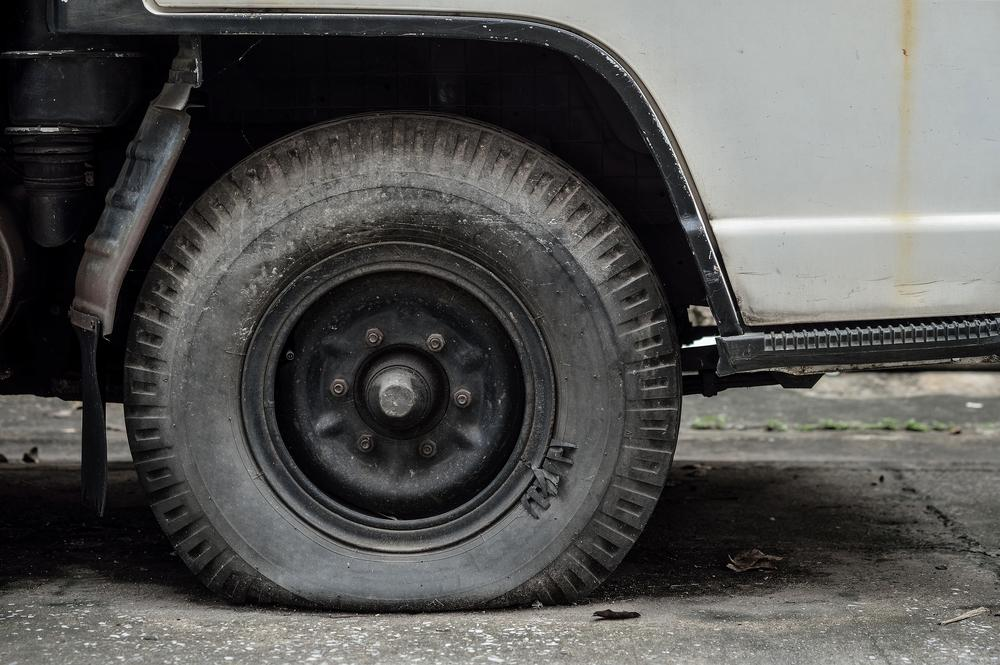tire flat: (123, 105, 686, 615)
